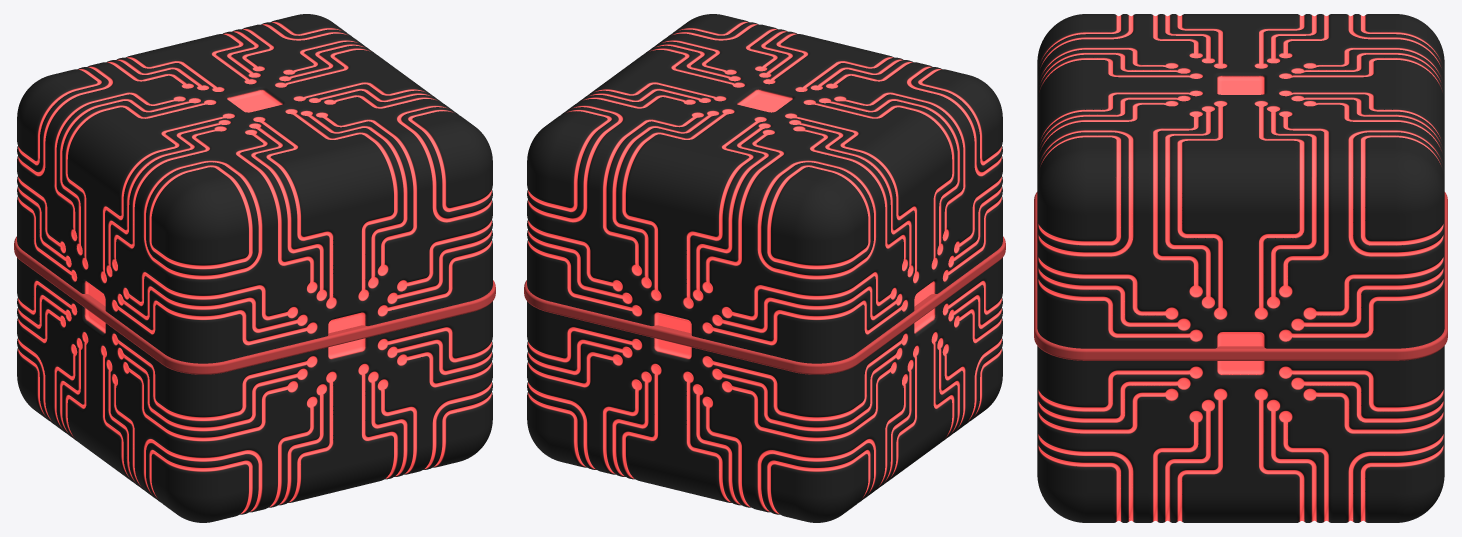
Rendered from hostooze-core.glb.
3 views of the same model, side by side, from view 1: azimuth 30°, elevation 25°; view 2: azimuth 150°, elevation 25°; view 3: azimuth 270°, elevation 25° (orthographic). The views are drawn at different scales.
Parts seen in each view (by area): view 1: Body, SeamRing; view 2: Body, SeamRing; view 3: Body, SeamRing.
Part boxes in pixels (x1,y1,x2,y2): Body: (17,14,492,522); SeamRing: (14,236,495,374); Body: (527,14,1002,522); SeamRing: (524,236,1005,374); Body: (1037,14,1444,522); SeamRing: (1034,192,1447,360).
Bounding box in the file's own units: 2.03 × 2 × 2.03.
2 materials, 1 textured.
